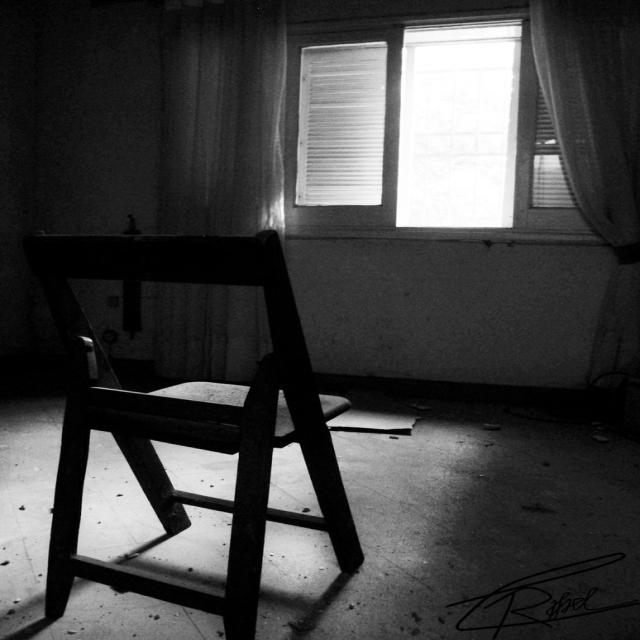chair: (0, 200, 413, 636)
